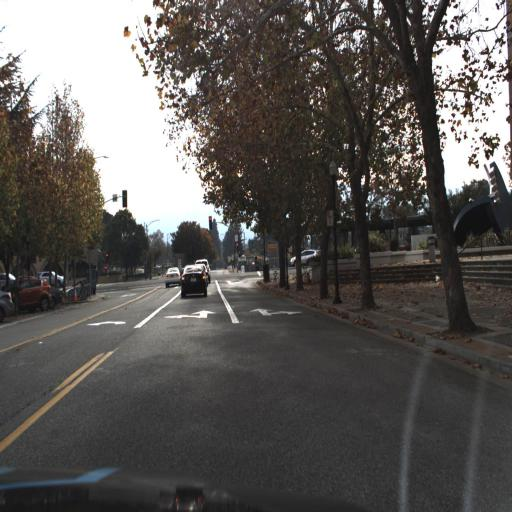car: (6, 274, 53, 316), (179, 259, 209, 300), (14, 277, 51, 310), (289, 244, 325, 271), (36, 268, 68, 290), (38, 269, 66, 292), (289, 247, 322, 266), (162, 264, 182, 289)
trafficLight-Red: (206, 214, 214, 233), (208, 216, 213, 231)
